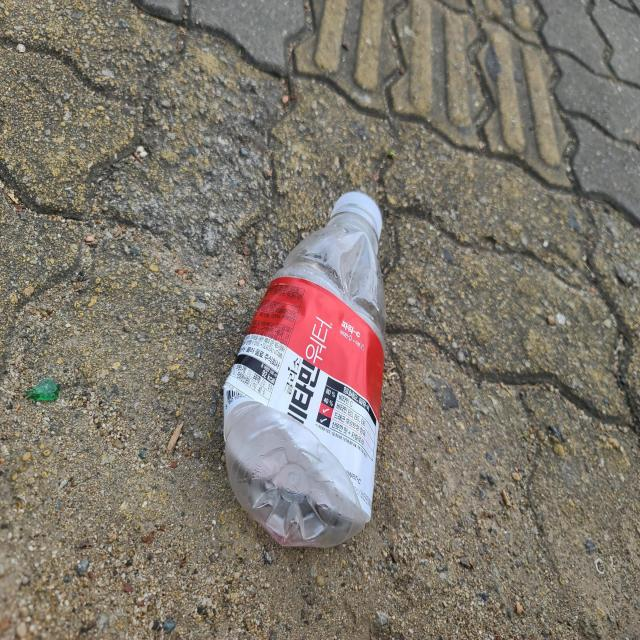plastic: (224, 191, 386, 547)
